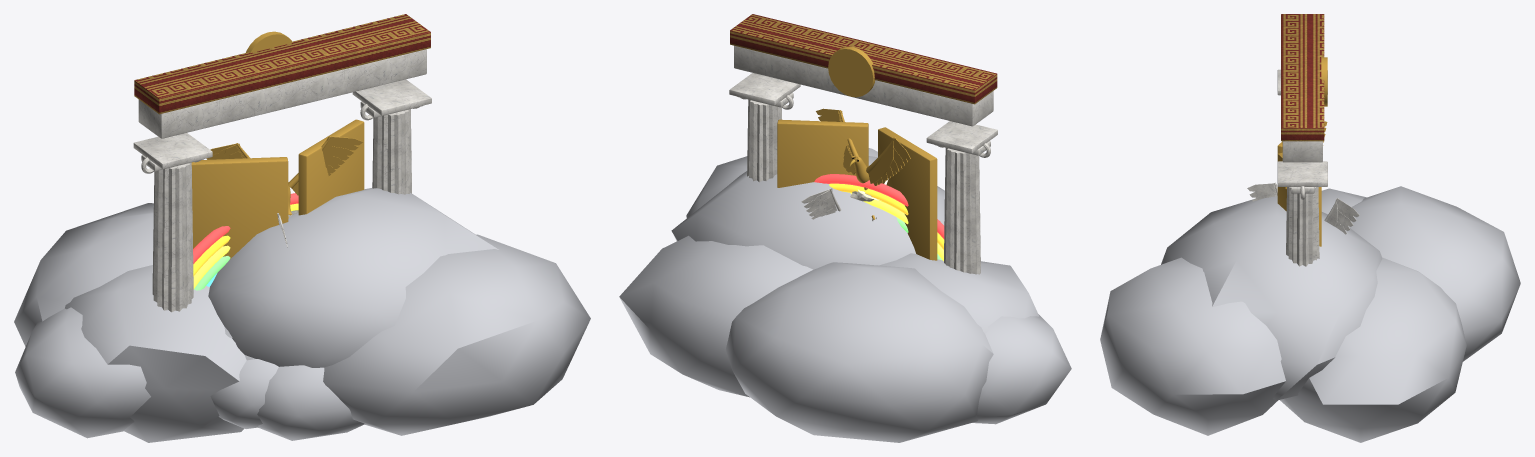
The model's file is Olimp.glb.
3 renders of one model, left to right at view 1: azimuth 30°, elevation 25°; view 2: azimuth 150°, elevation 25°; view 3: azimuth 270°, elevation 25°, orthographic. The views are drawn at different scales.
Visible parts, largest first — view 1: chmura_duza__cloud, zlote_wrota_olimpu__marble, zlote_wrota_olimpu__gold, zlote_wrota_olimpu__meander_gold, chmura__cloud, orzel_zeusa__gold, luk_teczy__glow_rainbow0; view 2: chmura_duza__cloud, zlote_wrota_olimpu__marble, zlote_wrota_olimpu__gold, zlote_wrota_olimpu__meander_gold, orzel_zeusa__gold, luk_teczy__glow_rainbow0, posag_pegaza__marble, luk_teczy__glow_rainbow1; view 3: chmura_duza__cloud, zlote_wrota_olimpu__meander_gold, zlote_wrota_olimpu__marble, posag_pegaza__marble, zlote_wrota_olimpu__gold.
Part boxes in pixels (<box>): chmura_duza__cloud: <box>14,188,590,442</box>; zlote_wrota_olimpu__marble: <box>133,49,431,312</box>; zlote_wrota_olimpu__gold: <box>191,31,364,258</box>; zlote_wrota_olimpu__meander_gold: <box>134,14,430,114</box>; chmura__cloud: <box>210,359,364,440</box>; orzel_zeusa__gold: <box>206,136,362,218</box>; luk_teczy__glow_rainbow0: <box>193,193,298,263</box>; chmura_duza__cloud: <box>619,148,1071,442</box>; zlote_wrota_olimpu__marble: <box>729,45,997,274</box>; zlote_wrota_olimpu__gold: <box>777,46,937,260</box>; zlote_wrota_olimpu__meander_gold: <box>730,14,997,104</box>; orzel_zeusa__gold: <box>816,108,910,190</box>; luk_teczy__glow_rainbow0: <box>814,174,944,239</box>; posag_pegaza__marble: <box>801,188,876,221</box>; luk_teczy__glow_rainbow1: <box>829,183,944,249</box>; chmura_duza__cloud: <box>1100,186,1520,442</box>; zlote_wrota_olimpu__meander_gold: <box>1281,14,1324,141</box>; zlote_wrota_olimpu__marble: <box>1277,69,1327,266</box>; posag_pegaza__marble: <box>1247,182,1359,234</box>; zlote_wrota_olimpu__gold: <box>1277,57,1327,246</box>.
Bounding box in the file's own units: 30.17 × 23.23 × 27.13.
Materials: 17 (4 with a texture image).
